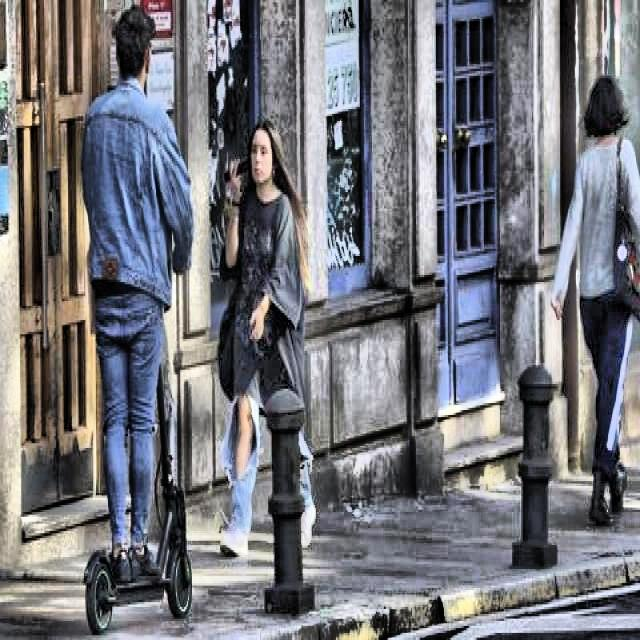bare_head: (98, 6, 173, 91)
human: (87, 6, 170, 582)
kickboard: (66, 531, 231, 640)
